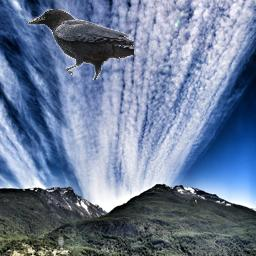Crow: (28, 9, 134, 80)
